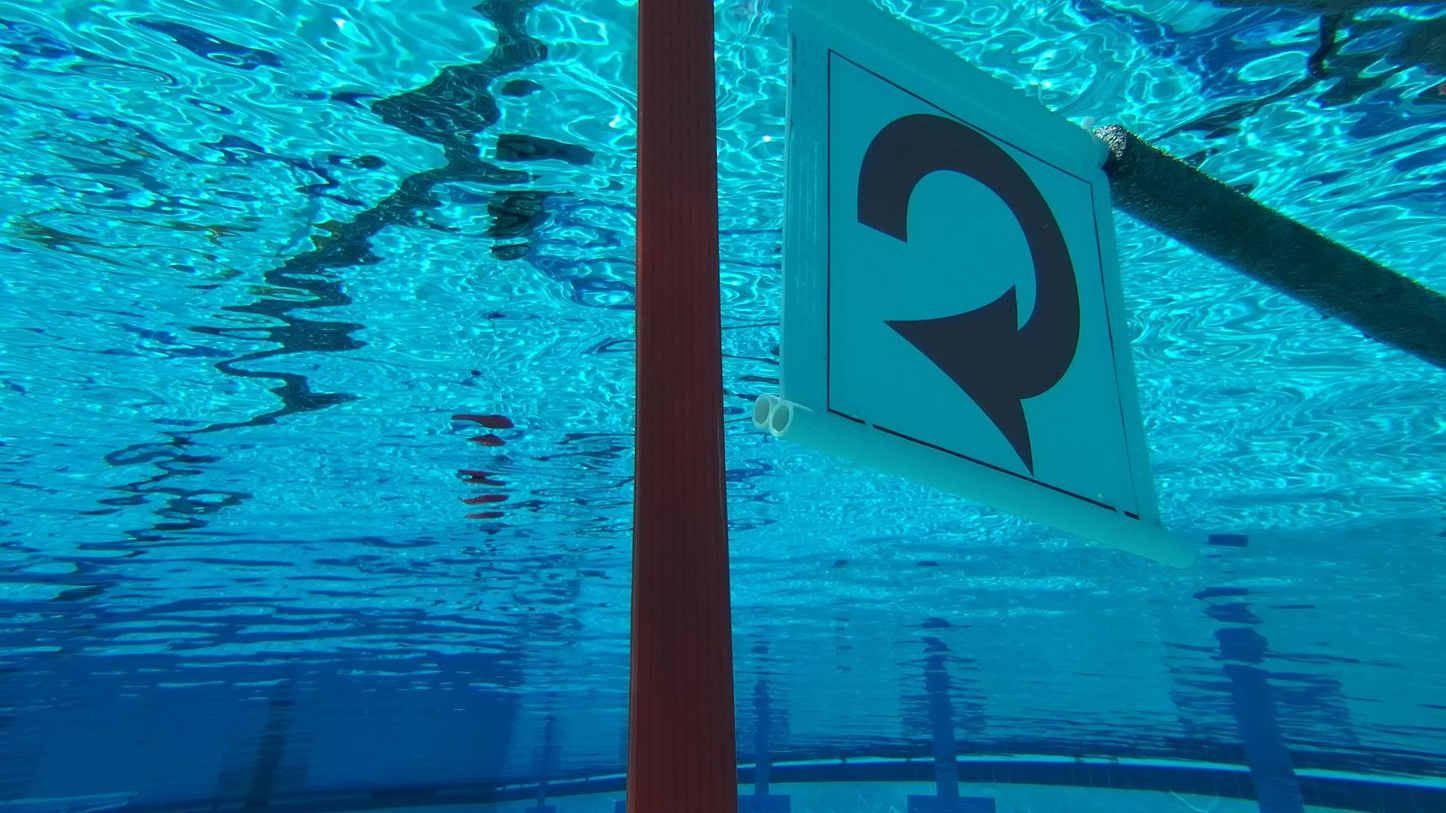red-gate-sign: (753, 3, 1202, 572)
